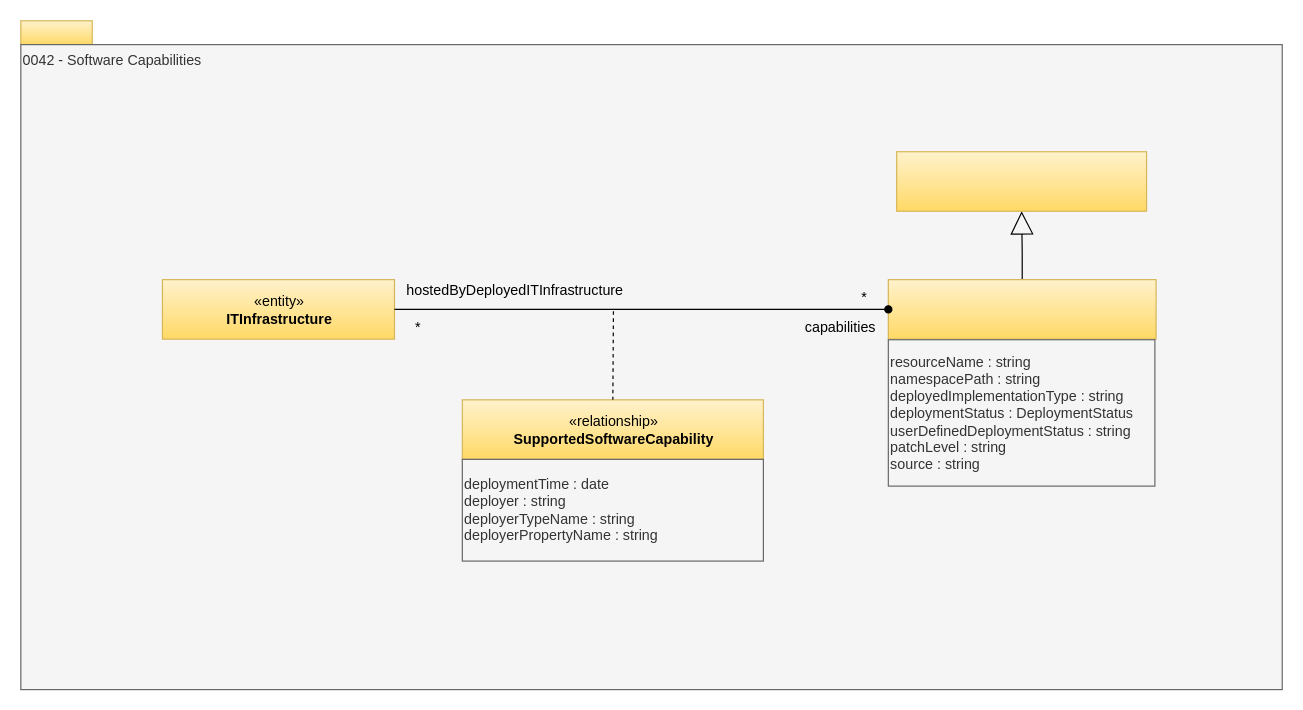
The diagram is 1303 pixels wide and 710 high, and some of its shapes have lost their labels. The shapes that lost their labels are listed below. From the top down, each one's centre as x and y in pixels, then its label:
At (1021,181): "«entity» Referenceable".
At (1021,308): "«entity» SoftwareCapability".
